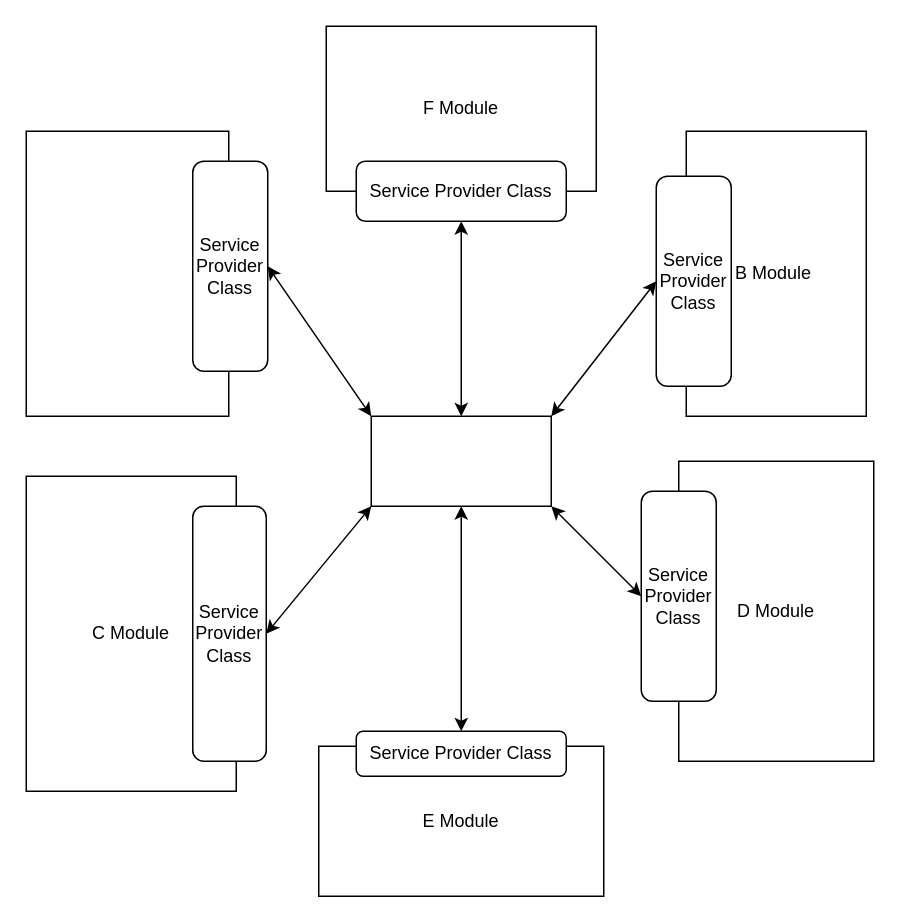
Image size: 900x923. Some labels were removed from this diagram. Here are the shapes that lost their labels. From the top down, the box of each, then its label:
(25, 130, 229, 416): A Module
(370, 415, 551, 506): DispatchCenter
